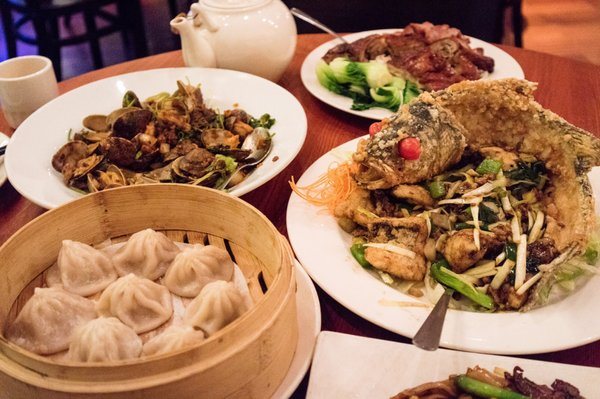pizza: (171, 1, 298, 84)
sandwich: (412, 290, 453, 351)
soup: (291, 76, 600, 313)
sushi: (0, 183, 297, 395)
